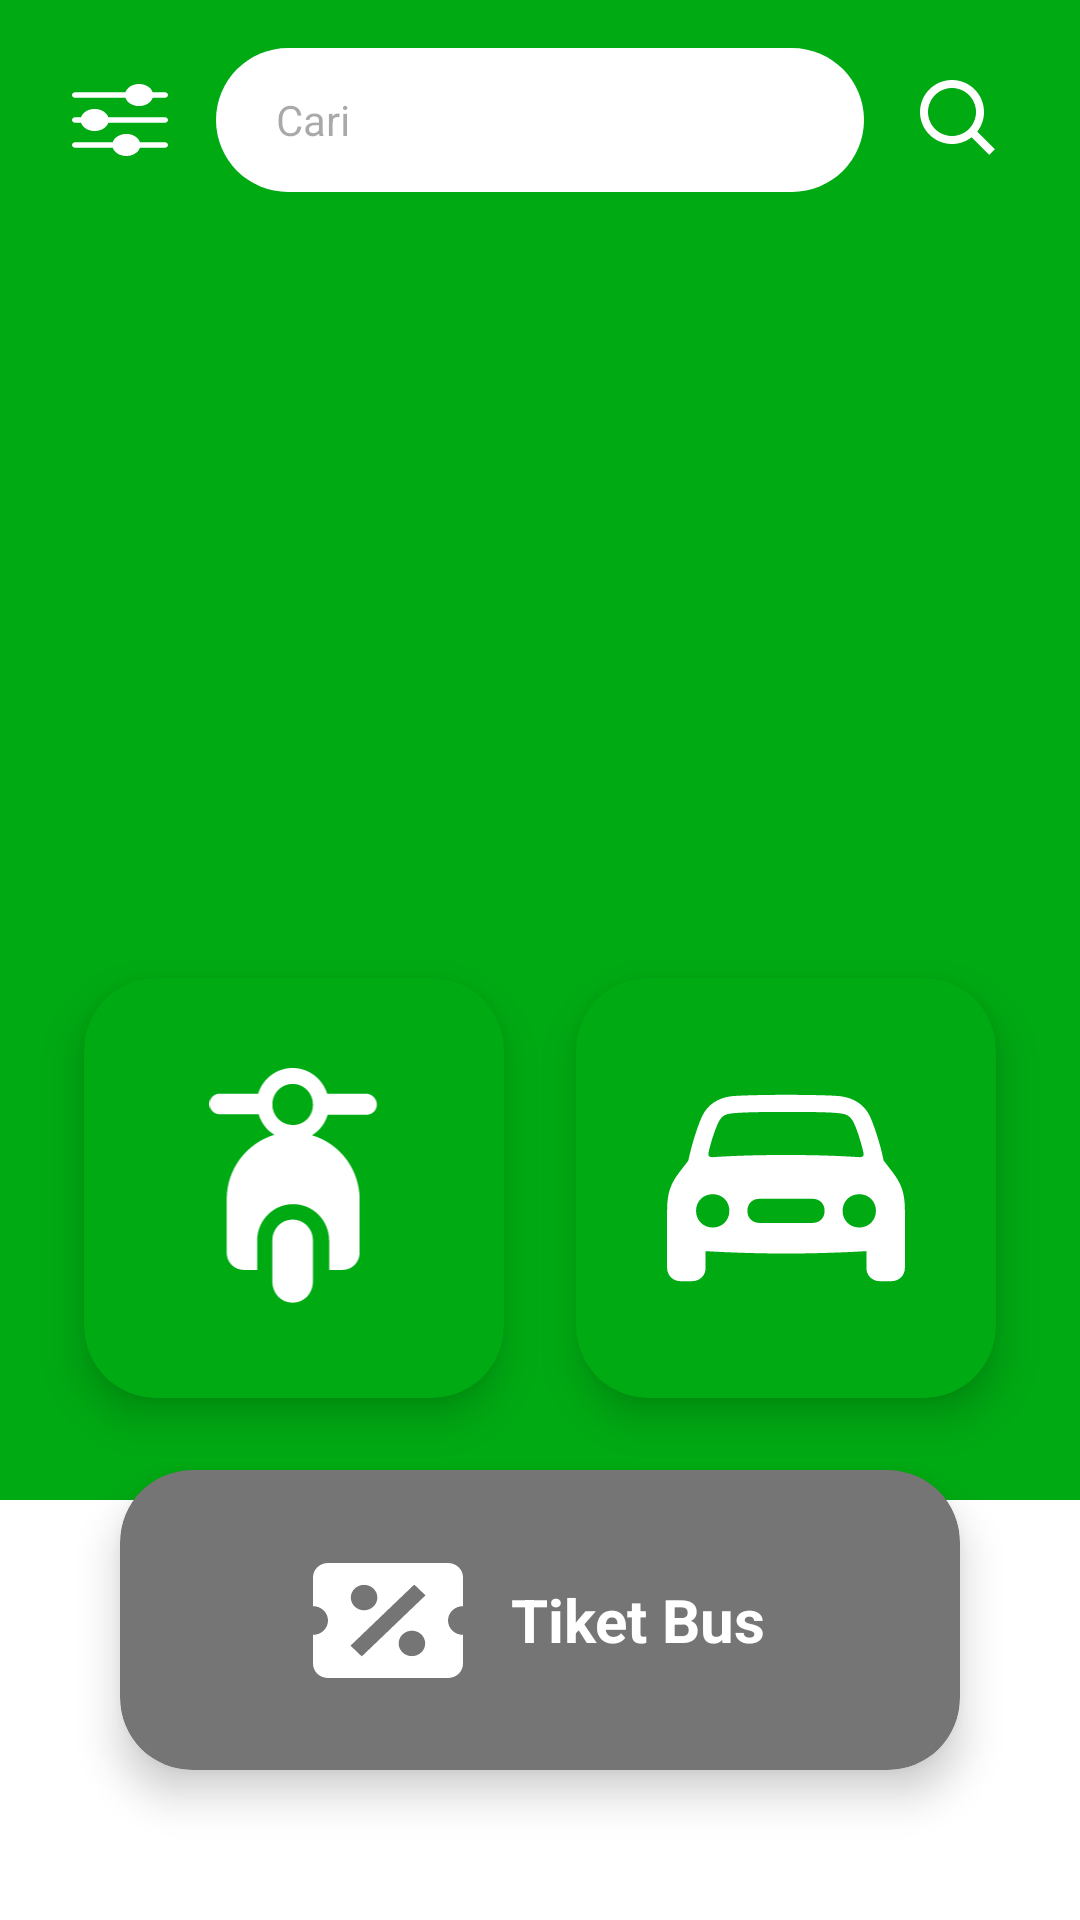

Named icons in this screenshot (1080px x 1920px) and their bounding boxes, (x1, y1, x2, y2):
filter: (72, 84, 168, 156)
mobil: (667, 1094, 905, 1282)
motor: (209, 1068, 378, 1303)
voucher: (313, 1563, 463, 1678)
